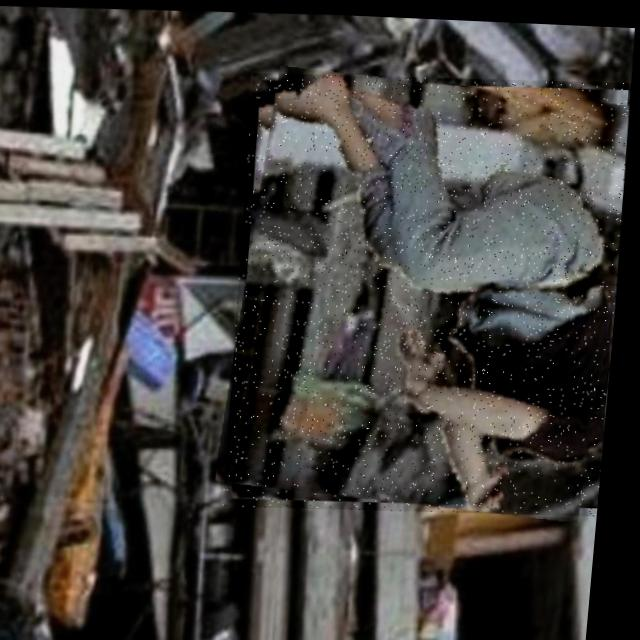Person in Rubble: (222, 63, 636, 516)
